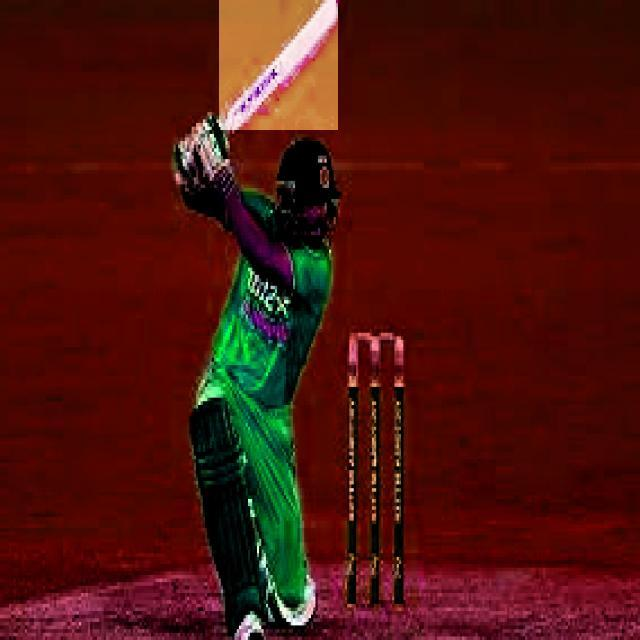bat: (220, 0, 339, 133)
